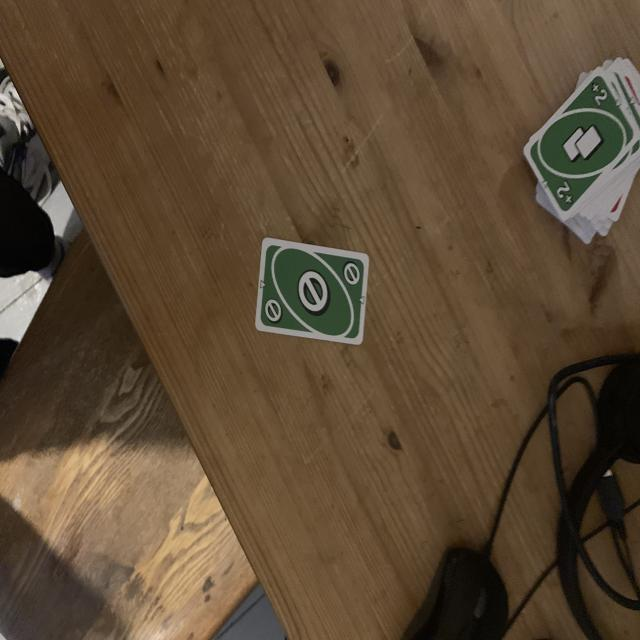lgreen-20: (588, 78, 610, 112)
lgreenskip-20: (339, 258, 364, 292)
